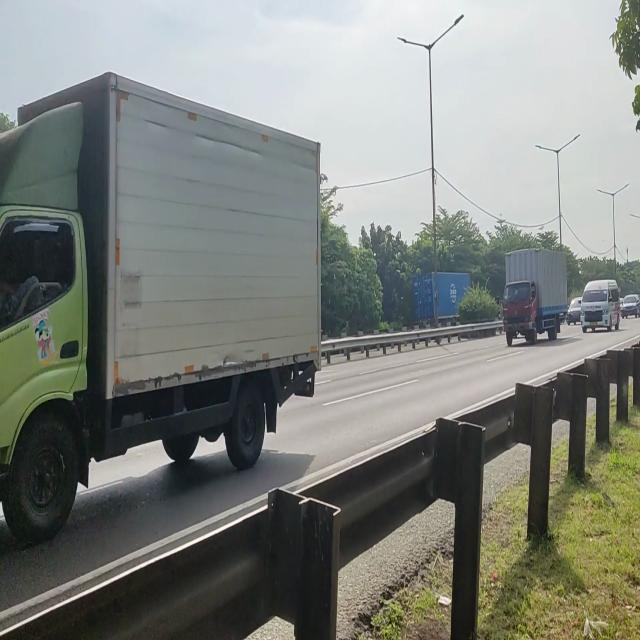Golongan II: (0, 120, 322, 546)
